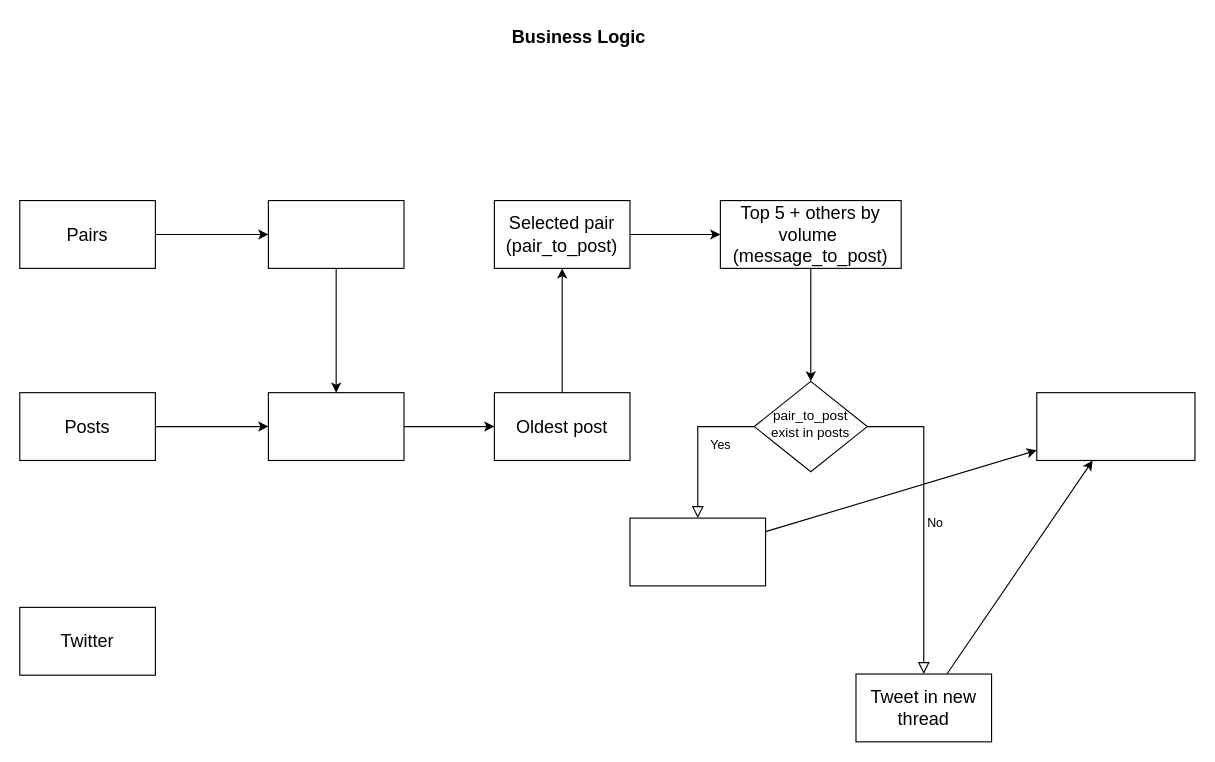
Some shapes in this 1215 by 762 pixel diagram are drawn without their labels. Here are the shapes that lost their labels. From the top down, the centre of each, then its label:
pixel 335 233: Top 100 pairs by volume
pixel 335 426: Latest posts for top 100 pairs
pixel 1115 426: Add post message_to_post
pixel 697 551: Tweet in existing thread
